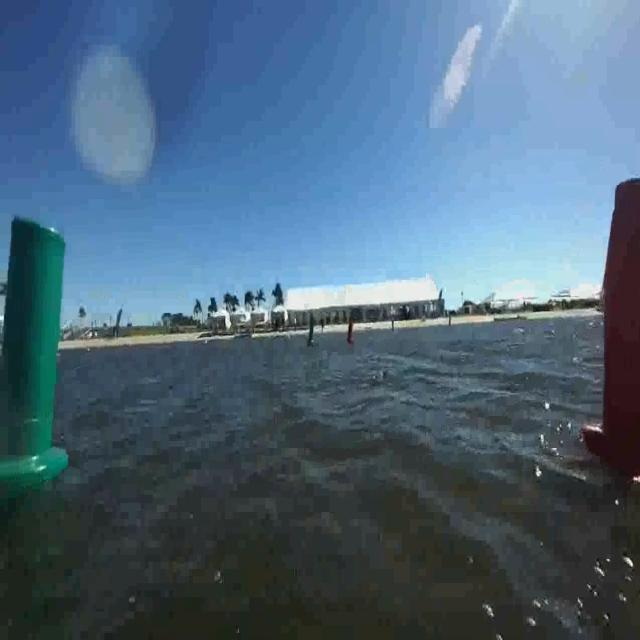green-column-buoy: (0, 215, 70, 483), (304, 314, 316, 348)
red-column-buoy: (577, 144, 638, 468), (346, 316, 356, 344)
